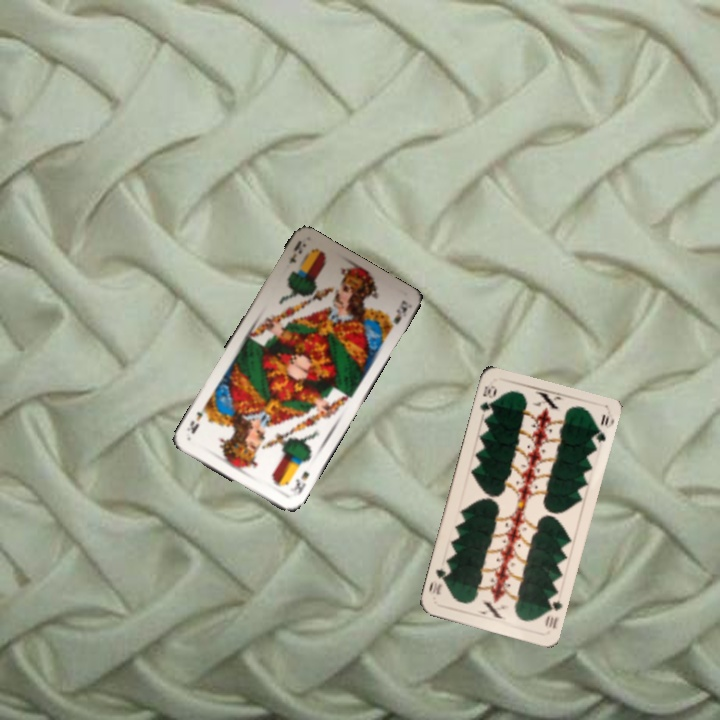EK: (286, 467, 312, 500), (285, 238, 308, 266)
G10: (541, 592, 565, 631), (476, 381, 499, 415)
